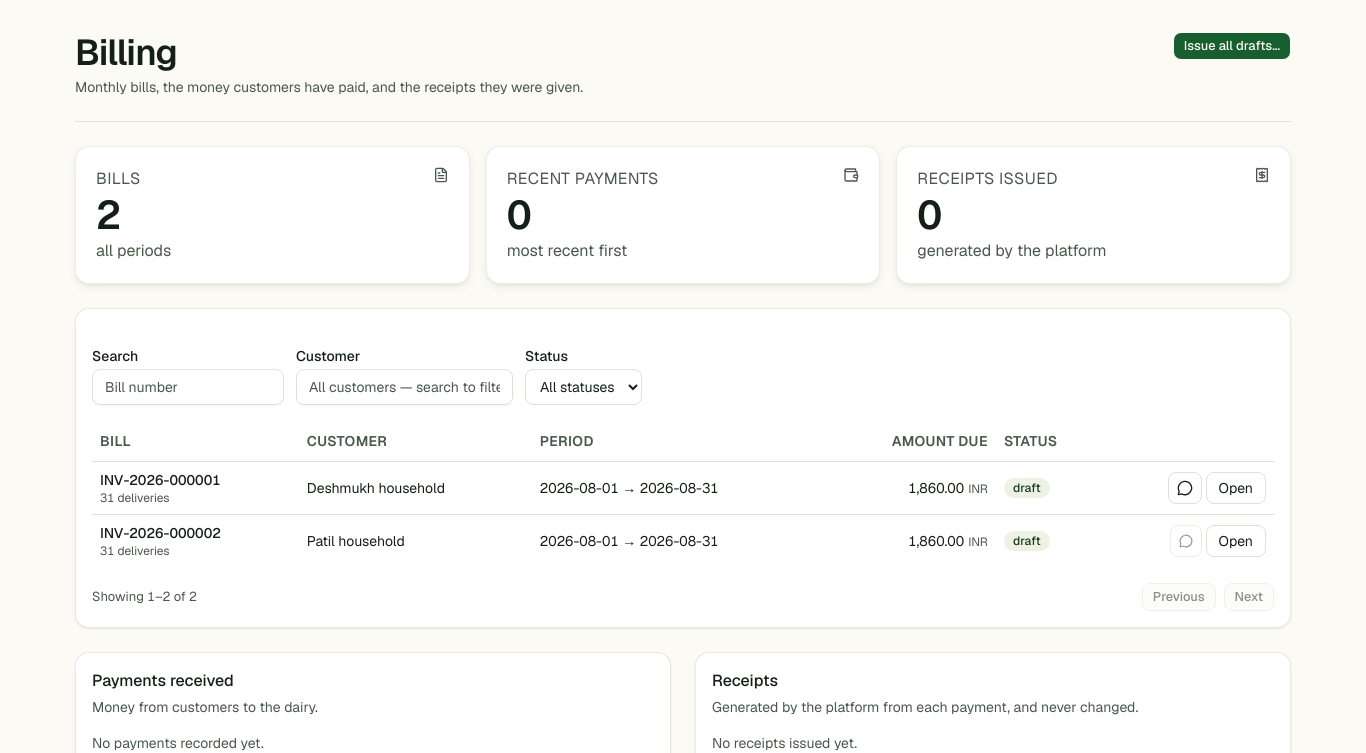
Test: Billing: Issue all (WO-83 §1) and the row's WhatsApp (§3) › previews first, confirms with the platform's count and total, then lists the exceptions
Check: the link "INV-2026-000001" is shown, box [100, 471, 221, 489]
Click the button "Issue all drafts…" at x=1232, y=46, box [1173, 32, 1291, 60]
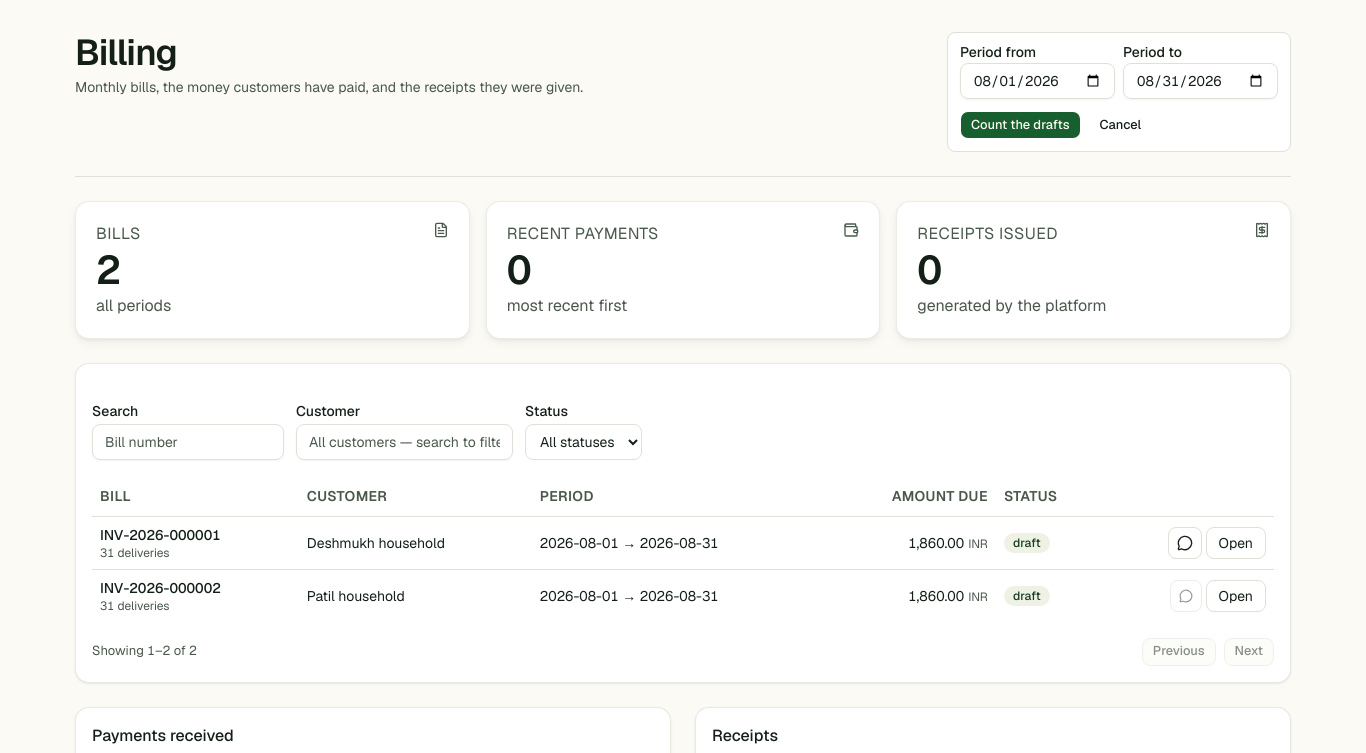
Click the button "Count the drafts" at x=1020, y=125, box [960, 111, 1080, 139]
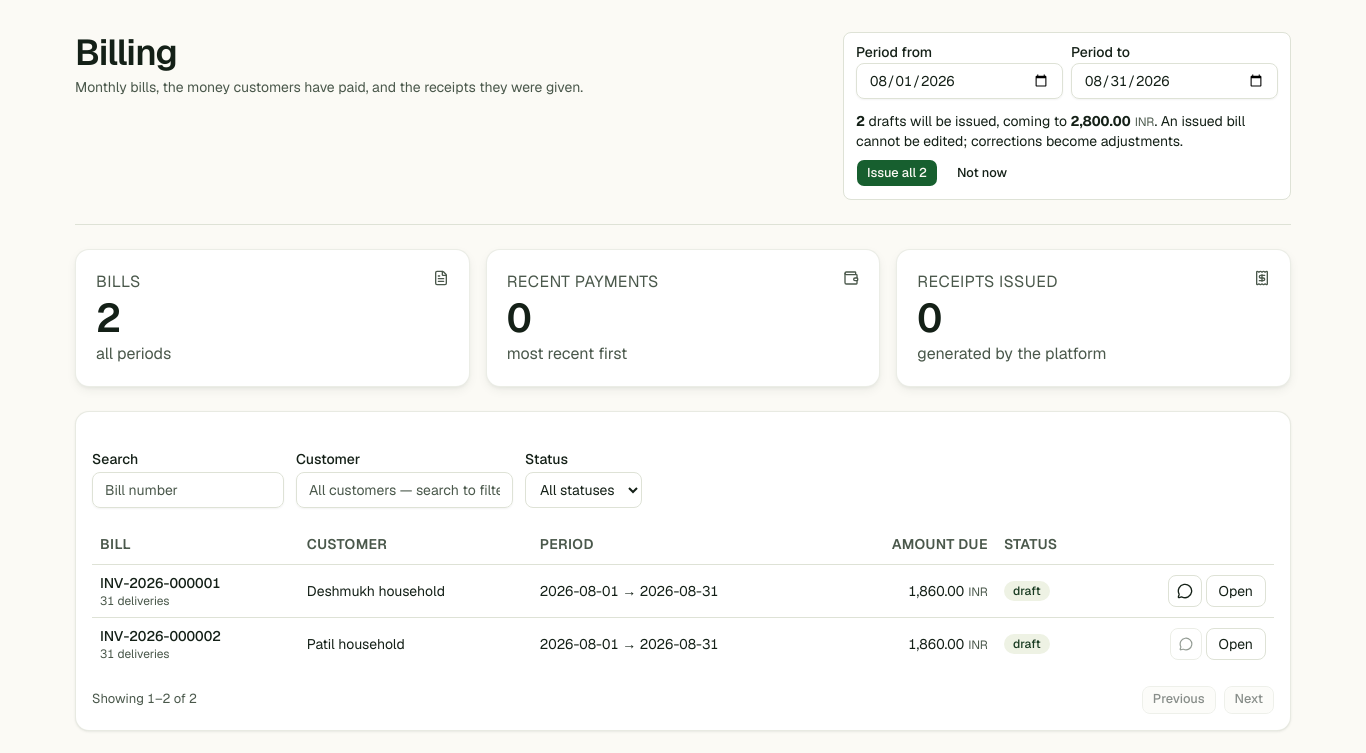
Check: the element with test id "issue-all-confirm" shows "2 drafts will be issued", box [856, 111, 1278, 187]
Click the button "Issue all 2" at x=897, y=173, box [856, 159, 938, 187]
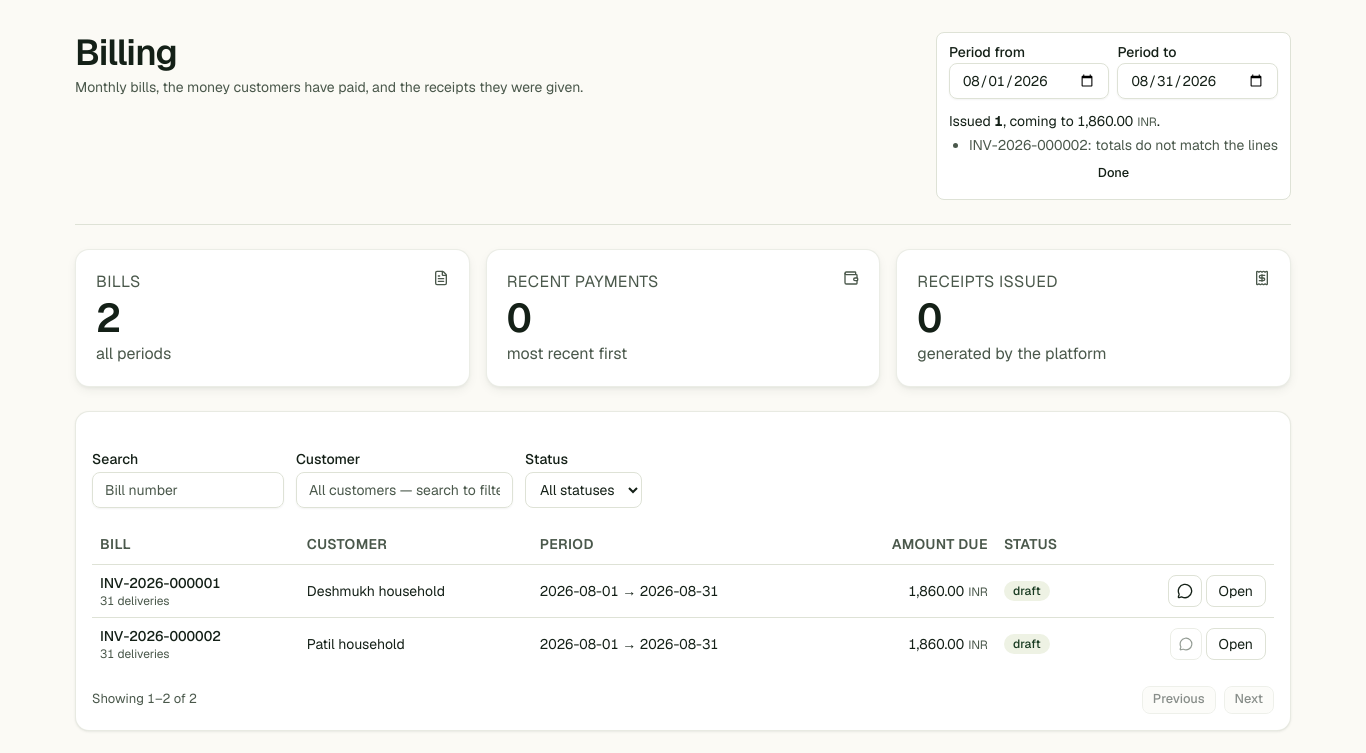
Check: the message with test id "issue-all-result" shows "Issued 1", box [949, 111, 1278, 187]
Check: the message with test id "issue-all-result" shows "INV-2026-000002: totals do not match the lines", box [949, 111, 1278, 187]
